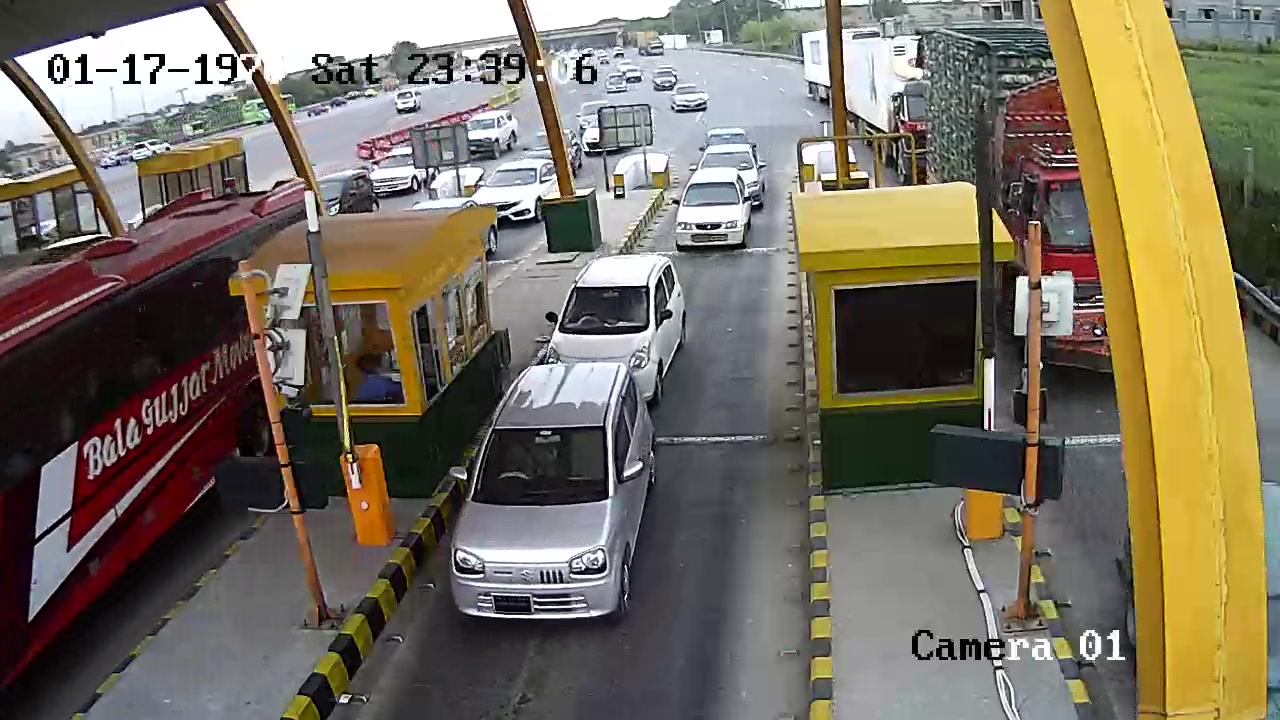F1: (432, 361, 683, 633)
